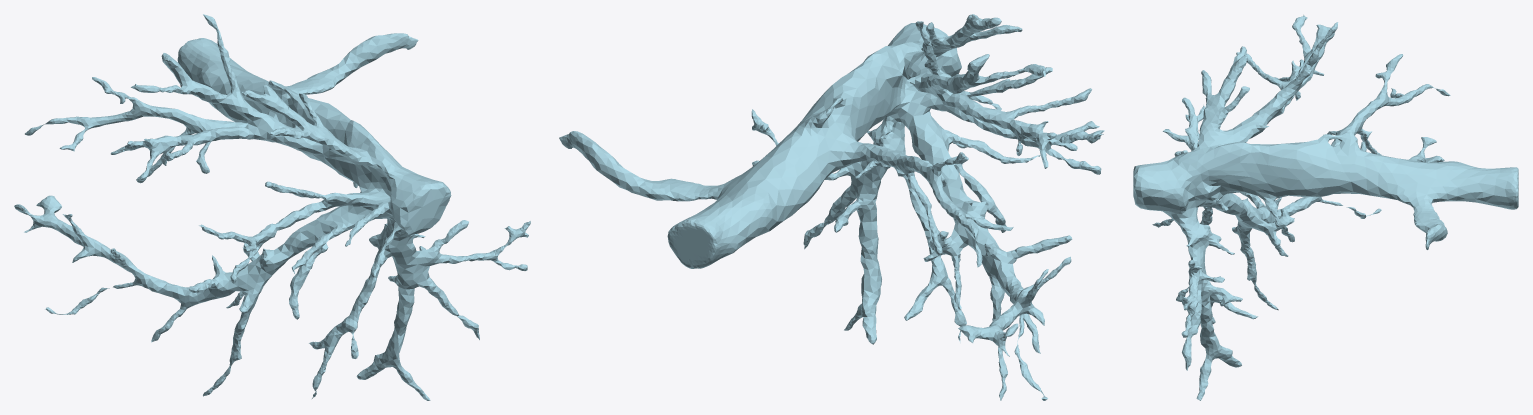
The model's file is venoussystem.obj.
3 views of the same model, side by side, from view 1: azimuth 30°, elevation 25°; view 2: azimuth 150°, elevation 25°; view 3: azimuth 270°, elevation 25° (orthographic). The views are drawn at different scales.
Parts seen in each view (by area): view 1: grp1; view 2: grp1; view 3: grp1.
Part boxes in pixels (left/top/right/bottom): grp1: left=14, top=14, right=530, bottom=400; grp1: left=559, top=14, right=1104, bottom=400; grp1: left=1133, top=15, right=1518, bottom=400.
Bounding box in the file's own units: 187 × 162 × 179.
